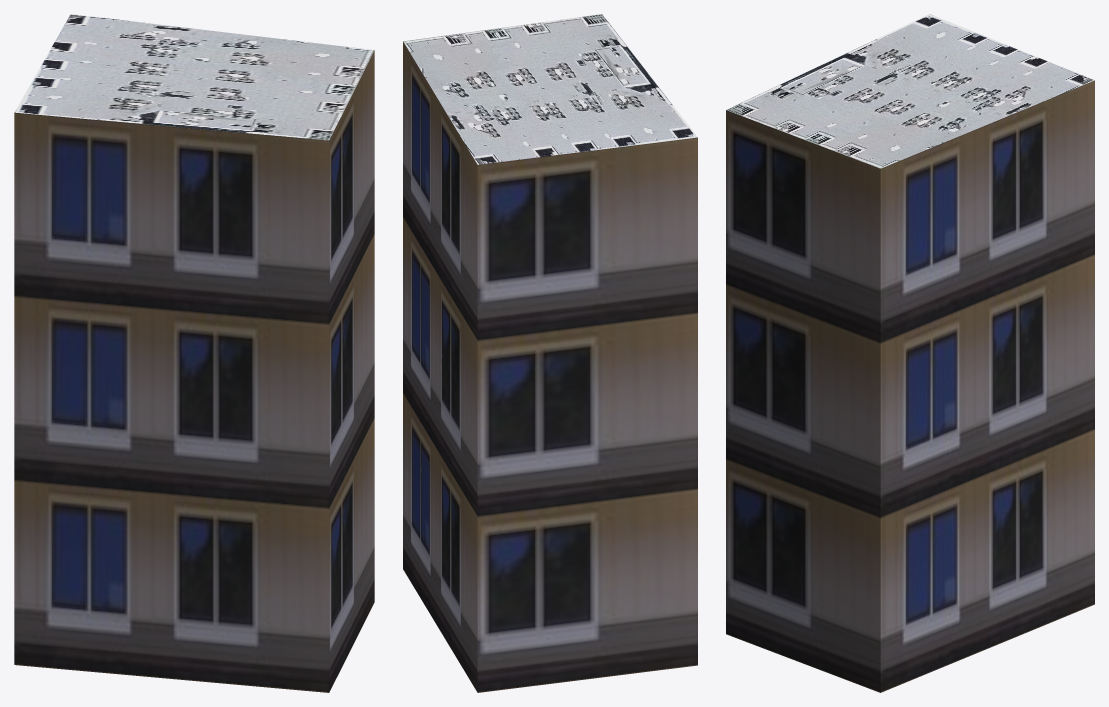
File: ResTex__4119.fbx
3 views of the same model, side by side, from view 1: azimuth 30°, elevation 25°; view 2: azimuth 150°, elevation 25°; view 3: azimuth 270°, elevation 25° (orthographic). The views are drawn at different scales.
Parts seen in each view (by area): view 1: CityEngineMaterial_5_m, CityEngineMaterial_8_m; view 2: CityEngineMaterial_5_m, CityEngineMaterial_8_m; view 3: CityEngineMaterial_5_m, CityEngineMaterial_8_m.
Part boxes in pixels (x1,y1,x2,y2): CityEngineMaterial_5_m: (14,50,374,692); CityEngineMaterial_8_m: (14,14,374,140); CityEngineMaterial_5_m: (403,41,697,692); CityEngineMaterial_8_m: (403,14,697,164); CityEngineMaterial_5_m: (726,80,1094,692); CityEngineMaterial_8_m: (726,14,1094,168).
Bounding box in the file's own units: 5.7 × 9 × 5.74.
Materials: 2 (2 with a texture image).
